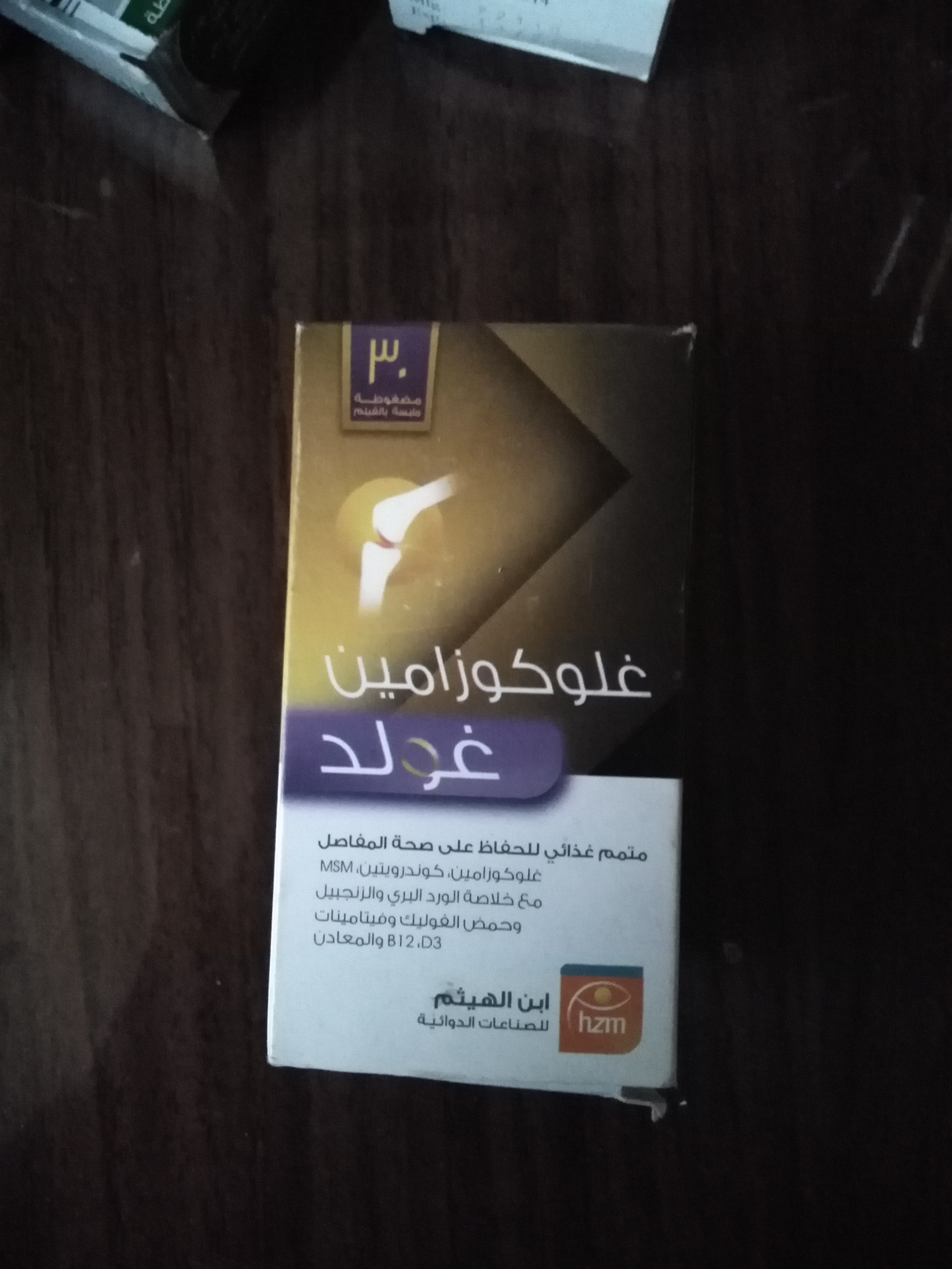Medicine: (260, 295, 701, 1123)
